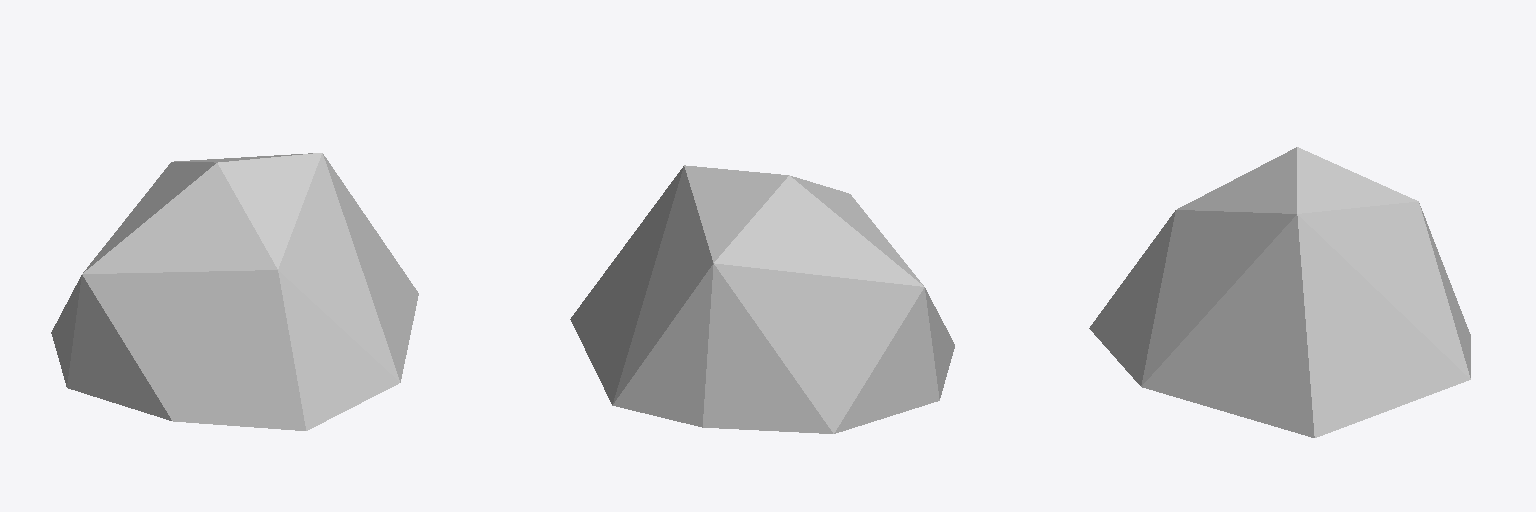
File: stone_2.obj
3 views of the same model, side by side, from view 1: azimuth 30°, elevation 25°; view 2: azimuth 150°, elevation 25°; view 3: azimuth 270°, elevation 25° (orthographic).
Visible parts, largest first — view 1: Stone2_00; view 2: Stone2_00; view 3: Stone2_00.
Part boxes in pixels (bbox=[...]): Stone2_00: bbox=[51, 153, 418, 430]; Stone2_00: bbox=[570, 165, 954, 433]; Stone2_00: bbox=[1089, 147, 1470, 437].
Size of the model in its own units: 2.4 by 1.2 by 2.2.